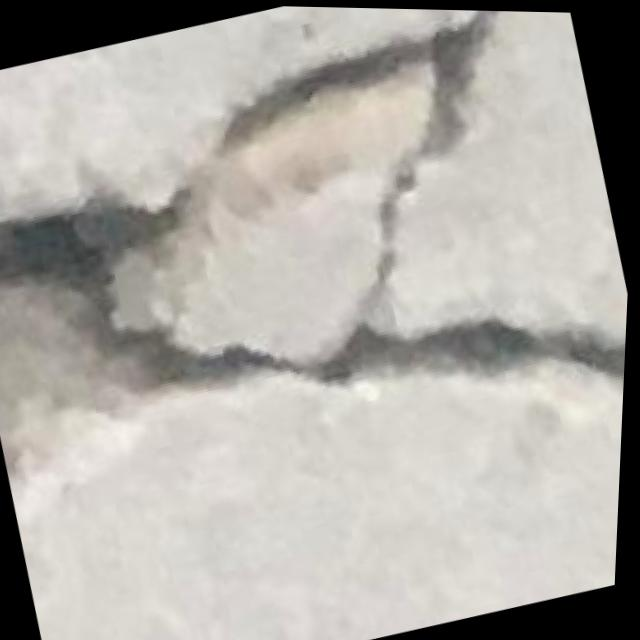Crack: (0, 0, 640, 538)
